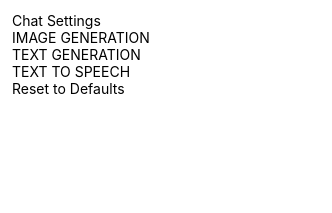
Test: GenerationSettingsModal › opens image settings section when tapping "IMAGE GENERATION"
The width and height of the screenshot is (332, 213).
Expected: the text "Image Model" is not shown
Step 1. Click the text "IMAGE GENERATION" → (81, 38), box [12,29,150,46]
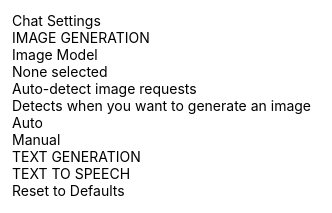
Expected: the text "Image Model" is shown, [12,46,98,63]
